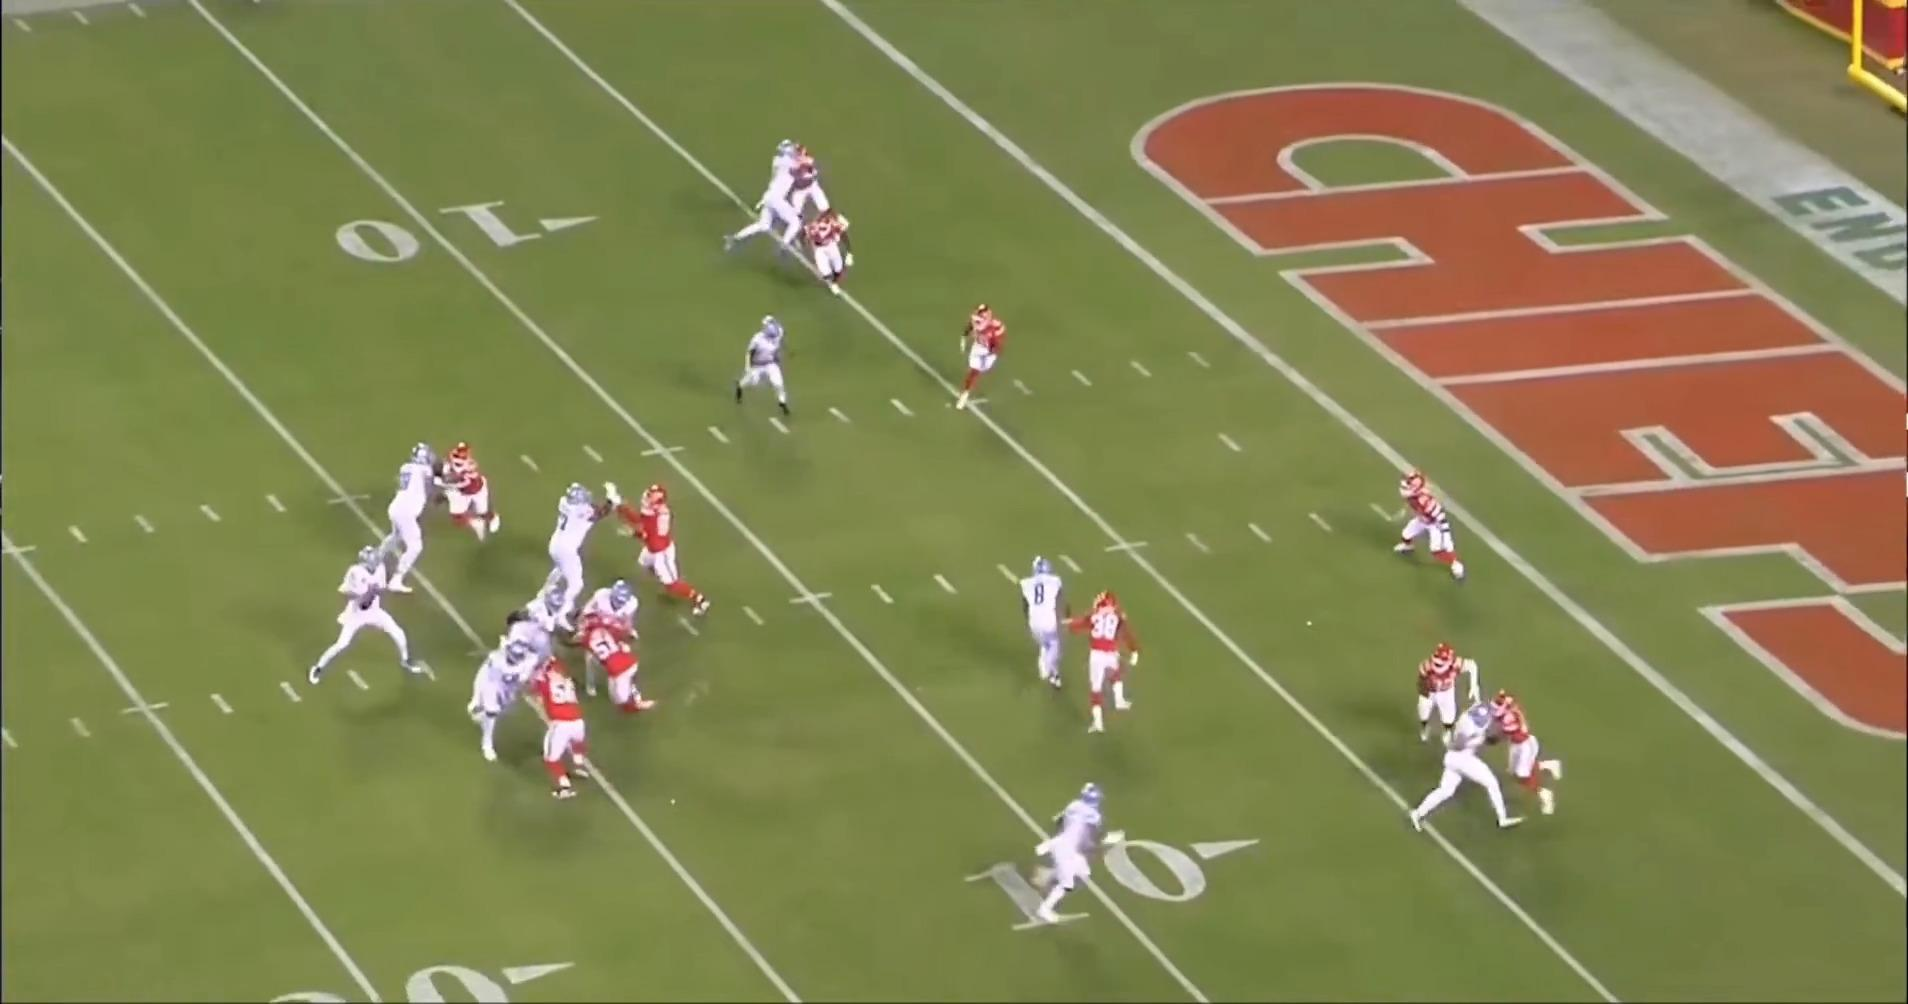player: (307, 544, 441, 687), (1403, 699, 1509, 834), (471, 610, 560, 769), (529, 481, 629, 620), (613, 480, 713, 616), (1030, 779, 1115, 927), (380, 442, 456, 604), (720, 138, 806, 266), (1488, 688, 1567, 824), (532, 659, 602, 805), (1397, 472, 1477, 590), (1082, 587, 1145, 736), (584, 618, 665, 720), (722, 315, 795, 427), (1025, 550, 1081, 695), (510, 588, 584, 697), (578, 585, 649, 692), (956, 301, 1022, 416), (433, 444, 501, 549), (796, 204, 865, 298), (1409, 644, 1468, 751), (788, 144, 839, 217)
